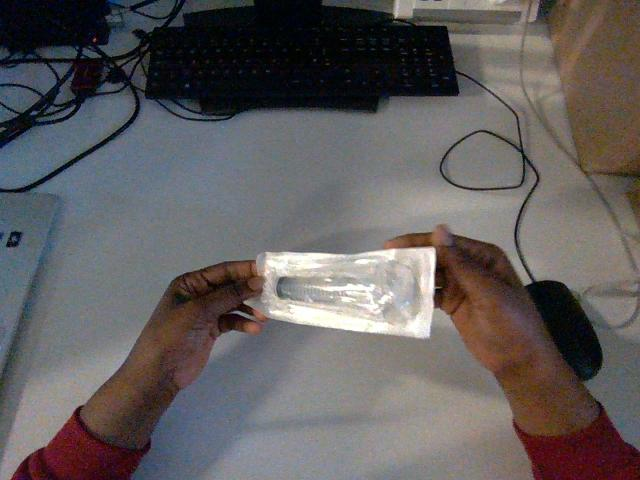syringe: (247, 247, 435, 337)
